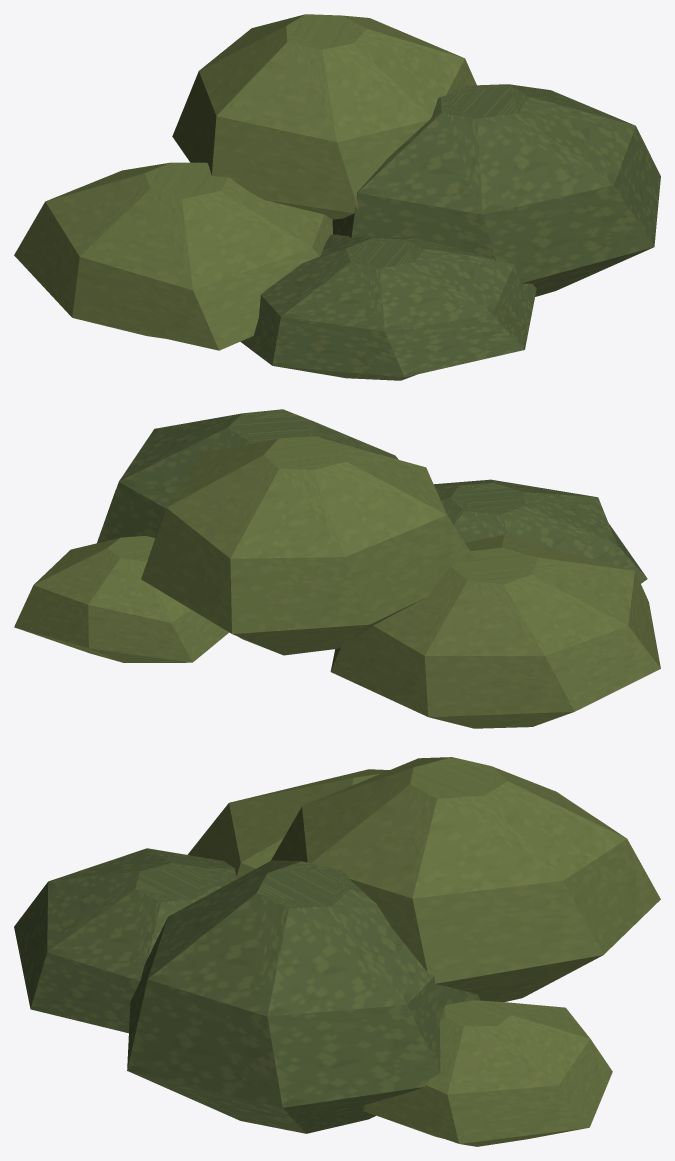
The model's file is bush_low.glb.
3 renders of one model, top to bottom at view 1: azimuth 30°, elevation 25°; view 2: azimuth 150°, elevation 25°; view 3: azimuth 270°, elevation 25°, orthographic. The views are drawn at different scales.
Visible parts, largest first — view 1: outdoor_bush_low; view 2: outdoor_bush_low; view 3: outdoor_bush_low.
Part boxes in pixels (left/top/right/bottom): outdoor_bush_low: left=14, top=14, right=660, bottom=380; outdoor_bush_low: left=14, top=409, right=660, bottom=728; outdoor_bush_low: left=14, top=757, right=660, bottom=1146.
Size of the model in its own units: 1.7 by 0.65 by 1.45.
Materials: 3 (3 with a texture image).
